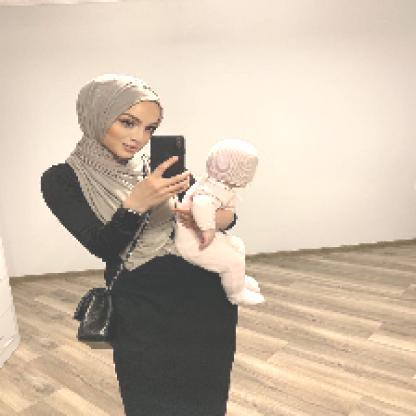child: (175, 141, 266, 308)
